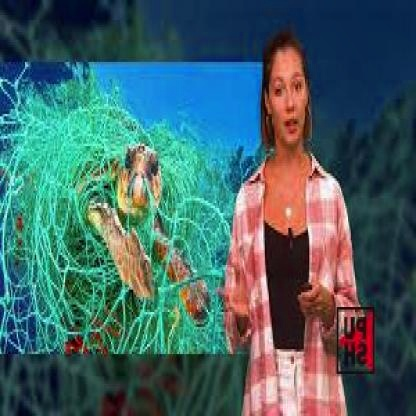net: (1, 72, 218, 352)
